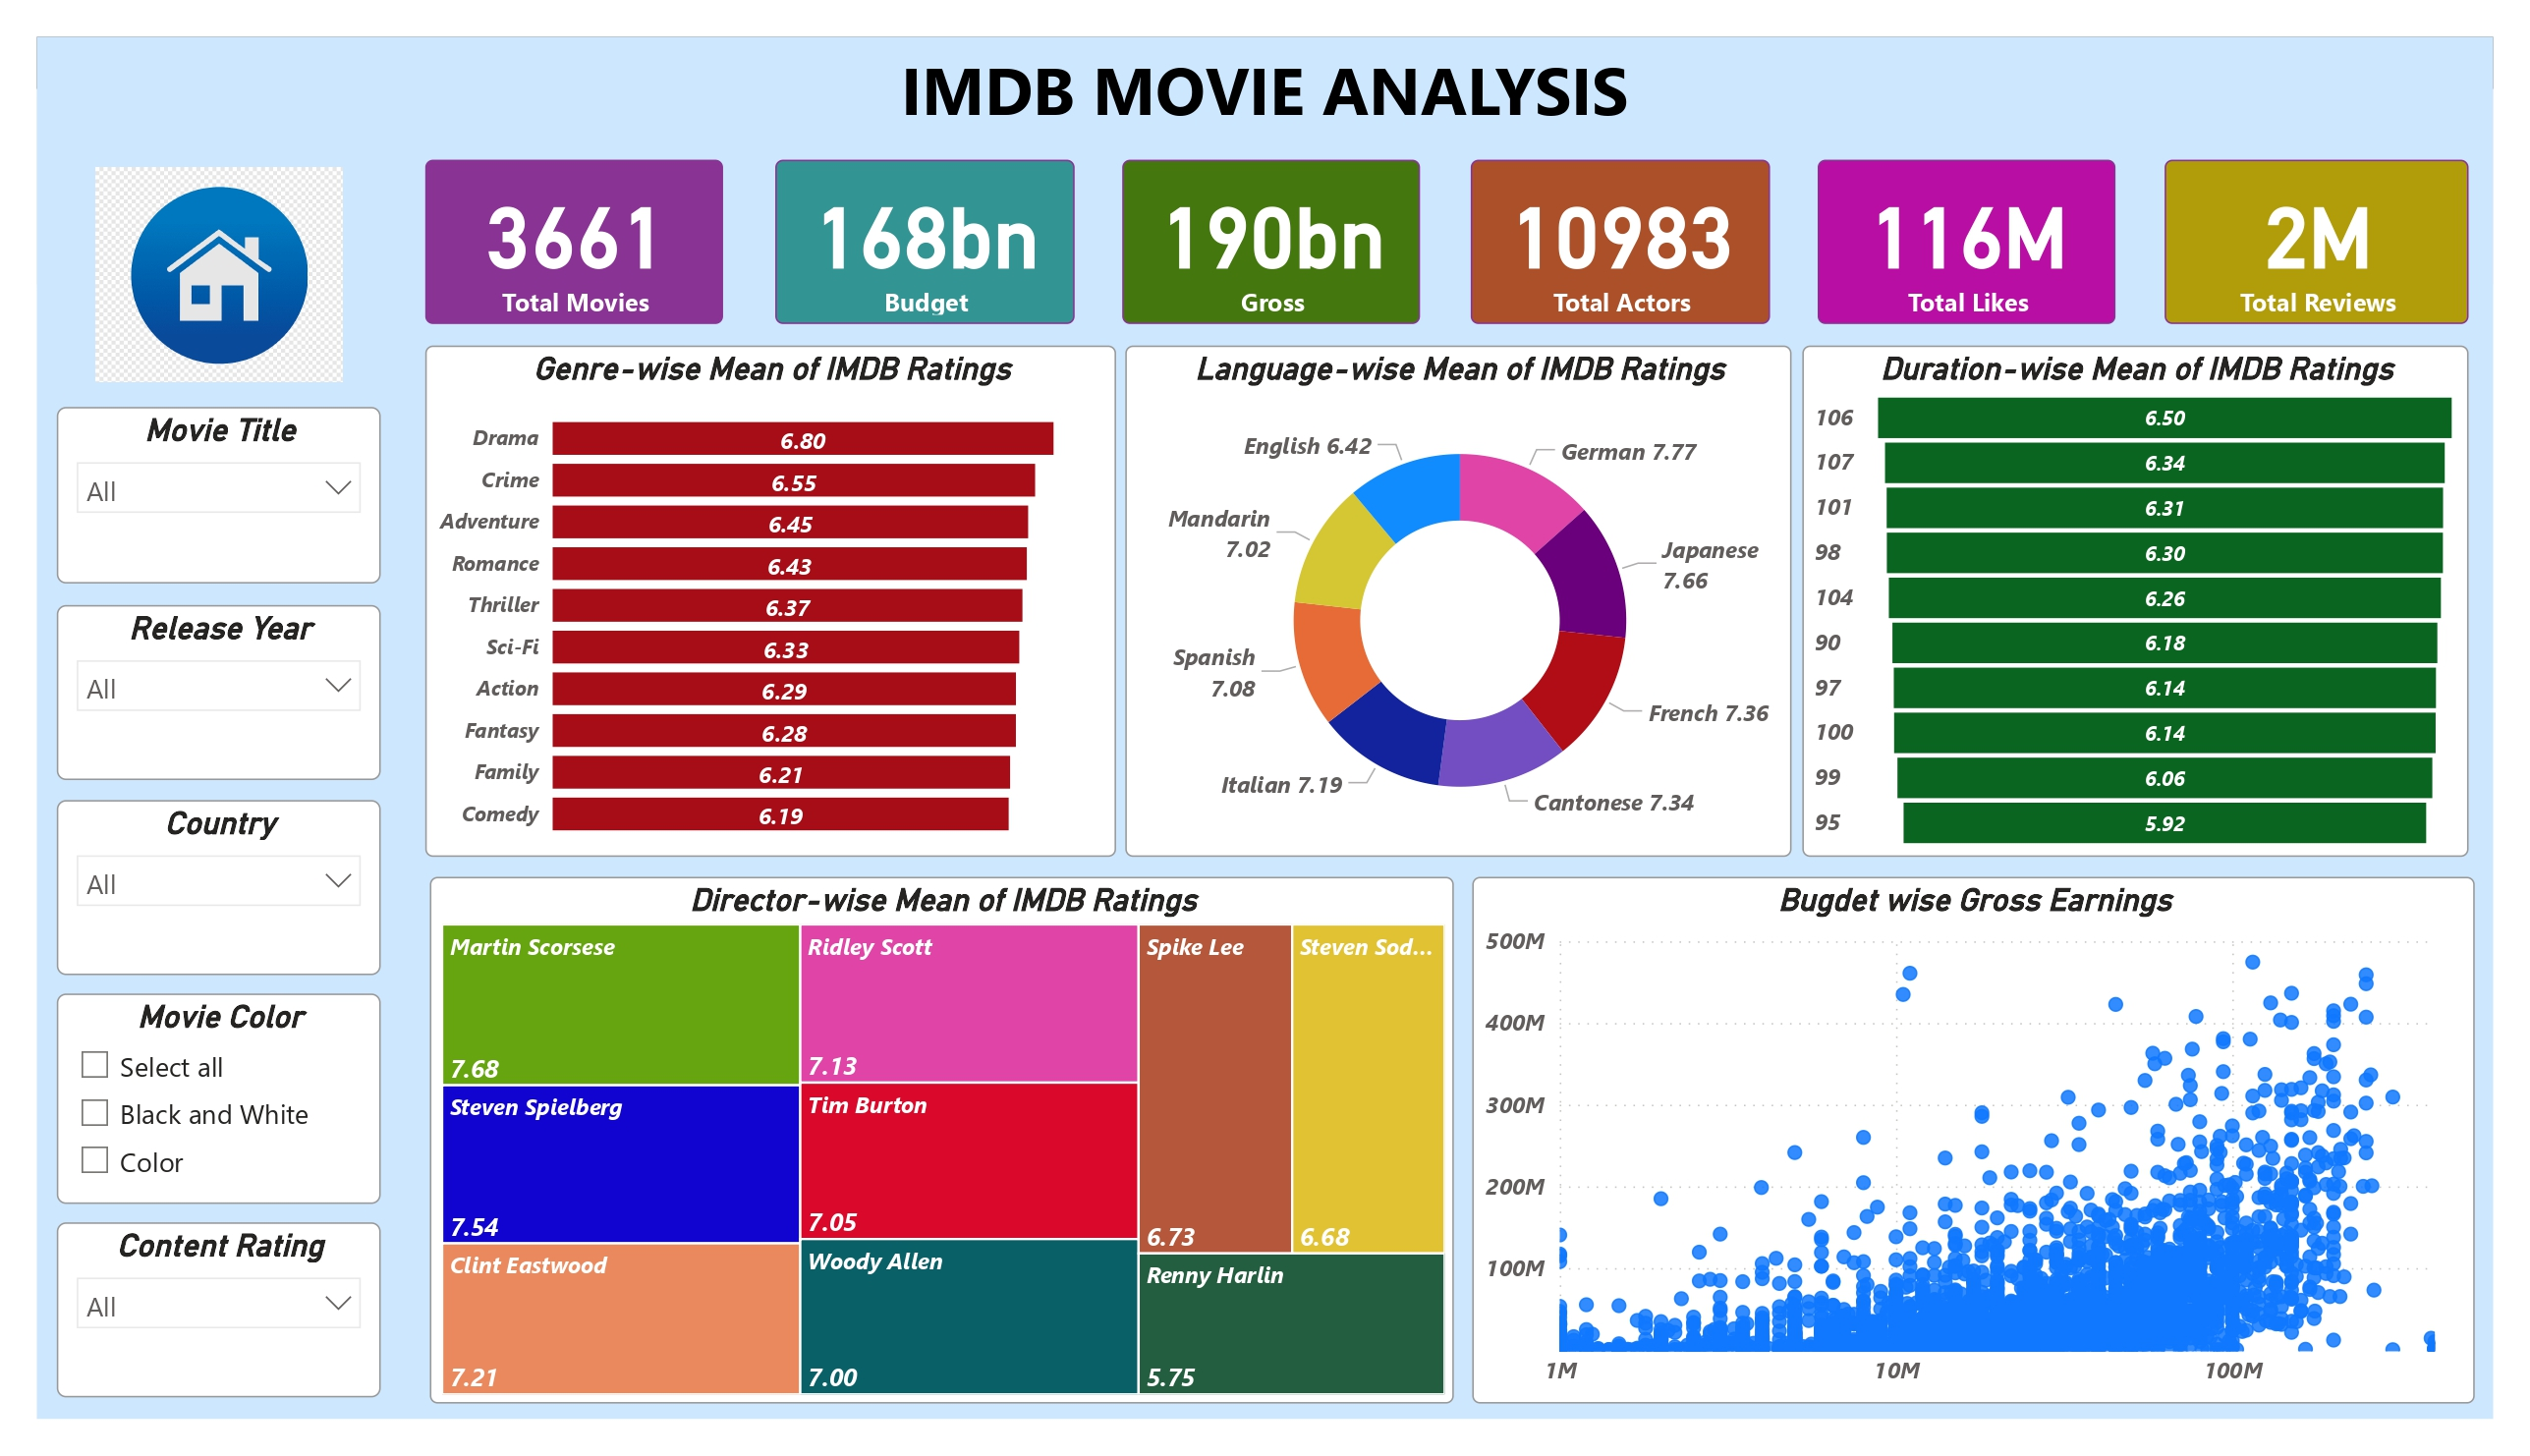

The dashboard page shown, as its layout file describes it:
{"tool":"powerbi","page":{"name":"Mean","canvas":[1600,900],"ordinal":0},"visuals":[{"type":"clusteredBarChart","title":"Genre-wise Mean of IMDB Ratings","fields":{"Category":["genres.genres"],"Y":["genres.imdb_score"]},"box":[252.9,201.4,450,332.9],"z":0},{"type":"funnel","title":"Duration-wise Mean of IMDB Ratings","fields":{"Category":["Movies.duration"],"Y":["Movies.imdb_score"]},"box":[1149.9,200.8,434.3,332.9],"z":1000},{"type":"donutChart","title":"Language-wise Mean of IMDB Ratings","fields":{"Category":["Movies.language"],"Y":["Movies.imdb_score"]},"box":[708.6,201.4,434.3,332.9],"z":2000},{"type":"treemap","title":"Director-wise Mean of IMDB Ratings","fields":{"Group":["Cast.director_name"],"Values":["Cast.imdb_score"]},"box":[256.1,547.1,667.1,342.9],"z":3000},{"type":"scatterChart","title":"Bugdet wise Gross Earnings","fields":{"X":["Movies.budget"],"Y":["Movies.gross"]},"box":[934.7,547.1,652.9,342.9],"z":4000},{"type":"card","fields":{"Values":["Movies.movie_title"]},"box":[252.9,80,194.3,107.1],"z":5000},{"type":"card","fields":{"Values":["Movies.budget"]},"box":[481.4,80,194.3,107.1],"z":6000},{"type":"card","fields":{"Values":["Movies.gross"]},"box":[707.1,80,194.3,107.1],"z":7000},{"type":"card","fields":{"Values":["Cast.Total_actors"]},"box":[934.3,80,194.3,107.1],"z":8000},{"type":"card","fields":{"Values":["Likes.total_likes"]},"box":[1160,80,194.3,107.1],"z":9000},{"type":"card","fields":{"Values":["Reviews.total_reviews"]},"box":[1385.7,80,198.6,107.1],"z":10000},{"type":"slicer","title":"Release Year","fields":{"Values":["IMDB_Movies.title_year"]},"box":[12.9,370,211.4,114.3],"z":11000},{"type":"slicer","title":"Movie Color","fields":{"Values":["Movies.color"]},"box":[12.9,622.9,211.4,137.1],"z":12000},{"type":"slicer","title":"Content Rating","fields":{"Values":["Movies.content_rating"]},"box":[12.9,771.8,211.4,114.3],"z":13000},{"type":"slicer","title":"Country","fields":{"Values":["Movies.country"]},"box":[12.9,497.1,211.4,114.3],"z":14000},{"type":"slicer","title":"Movie Title","fields":{"Values":["Cast.movie_title"]},"box":[12.9,241.4,211.4,114.3],"z":15000},{"type":"image","box":[12.9,80,211.4,150],"z":16000},{"type":"textbox","box":[0,0,1600,70],"z":17000}]}

Visuals, with their boxes on the page's 1600x900 design canvas (x1, y1, x2, y2). These are canvas units, not pixel positions in the 2530x1456 screenshot, which may show the page scaled, cropped or inside an application window:
"Genre-wise Mean of IMDB Ratings" clusteredBarChart: {"x1": 253, "y1": 201, "x2": 703, "y2": 534}
"Duration-wise Mean of IMDB Ratings" funnel: {"x1": 1150, "y1": 201, "x2": 1584, "y2": 534}
"Language-wise Mean of IMDB Ratings" donutChart: {"x1": 709, "y1": 201, "x2": 1143, "y2": 534}
"Director-wise Mean of IMDB Ratings" treemap: {"x1": 256, "y1": 547, "x2": 923, "y2": 890}
"Bugdet wise Gross Earnings" scatterChart: {"x1": 935, "y1": 547, "x2": 1588, "y2": 890}
card - Movies.movie_title: {"x1": 253, "y1": 80, "x2": 447, "y2": 187}
card - Movies.budget: {"x1": 481, "y1": 80, "x2": 676, "y2": 187}
card - Movies.gross: {"x1": 707, "y1": 80, "x2": 901, "y2": 187}
card - Cast.Total_actors: {"x1": 934, "y1": 80, "x2": 1129, "y2": 187}
card - Likes.total_likes: {"x1": 1160, "y1": 80, "x2": 1354, "y2": 187}
card - Reviews.total_reviews: {"x1": 1386, "y1": 80, "x2": 1584, "y2": 187}
"Release Year" slicer: {"x1": 13, "y1": 370, "x2": 224, "y2": 484}
"Movie Color" slicer: {"x1": 13, "y1": 623, "x2": 224, "y2": 760}
"Content Rating" slicer: {"x1": 13, "y1": 772, "x2": 224, "y2": 886}
"Country" slicer: {"x1": 13, "y1": 497, "x2": 224, "y2": 611}
"Movie Title" slicer: {"x1": 13, "y1": 241, "x2": 224, "y2": 356}
image: {"x1": 13, "y1": 80, "x2": 224, "y2": 230}
textbox: {"x1": 0, "y1": 0, "x2": 1600, "y2": 70}
